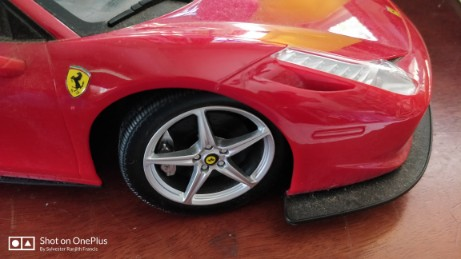unaligned_wheel: (118, 89, 293, 217)
